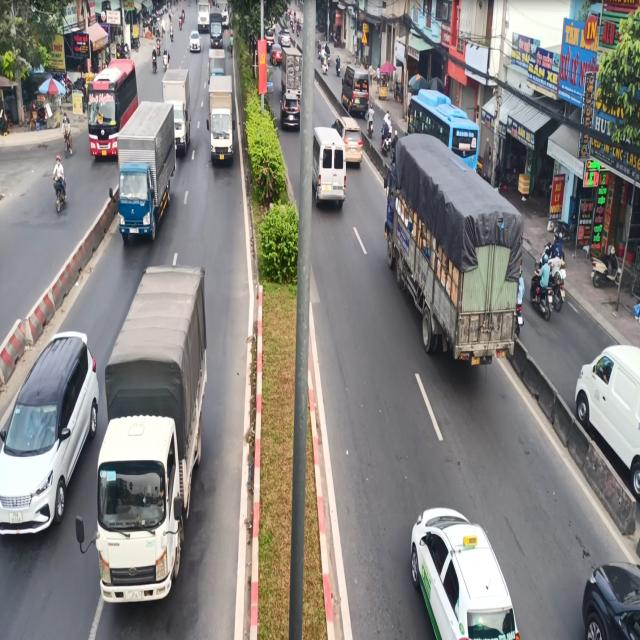car: (0, 329, 100, 549), (402, 493, 528, 640)
motor: (50, 159, 72, 229)
truck: (95, 256, 216, 634), (381, 124, 520, 386), (116, 108, 180, 248), (205, 78, 238, 174)
